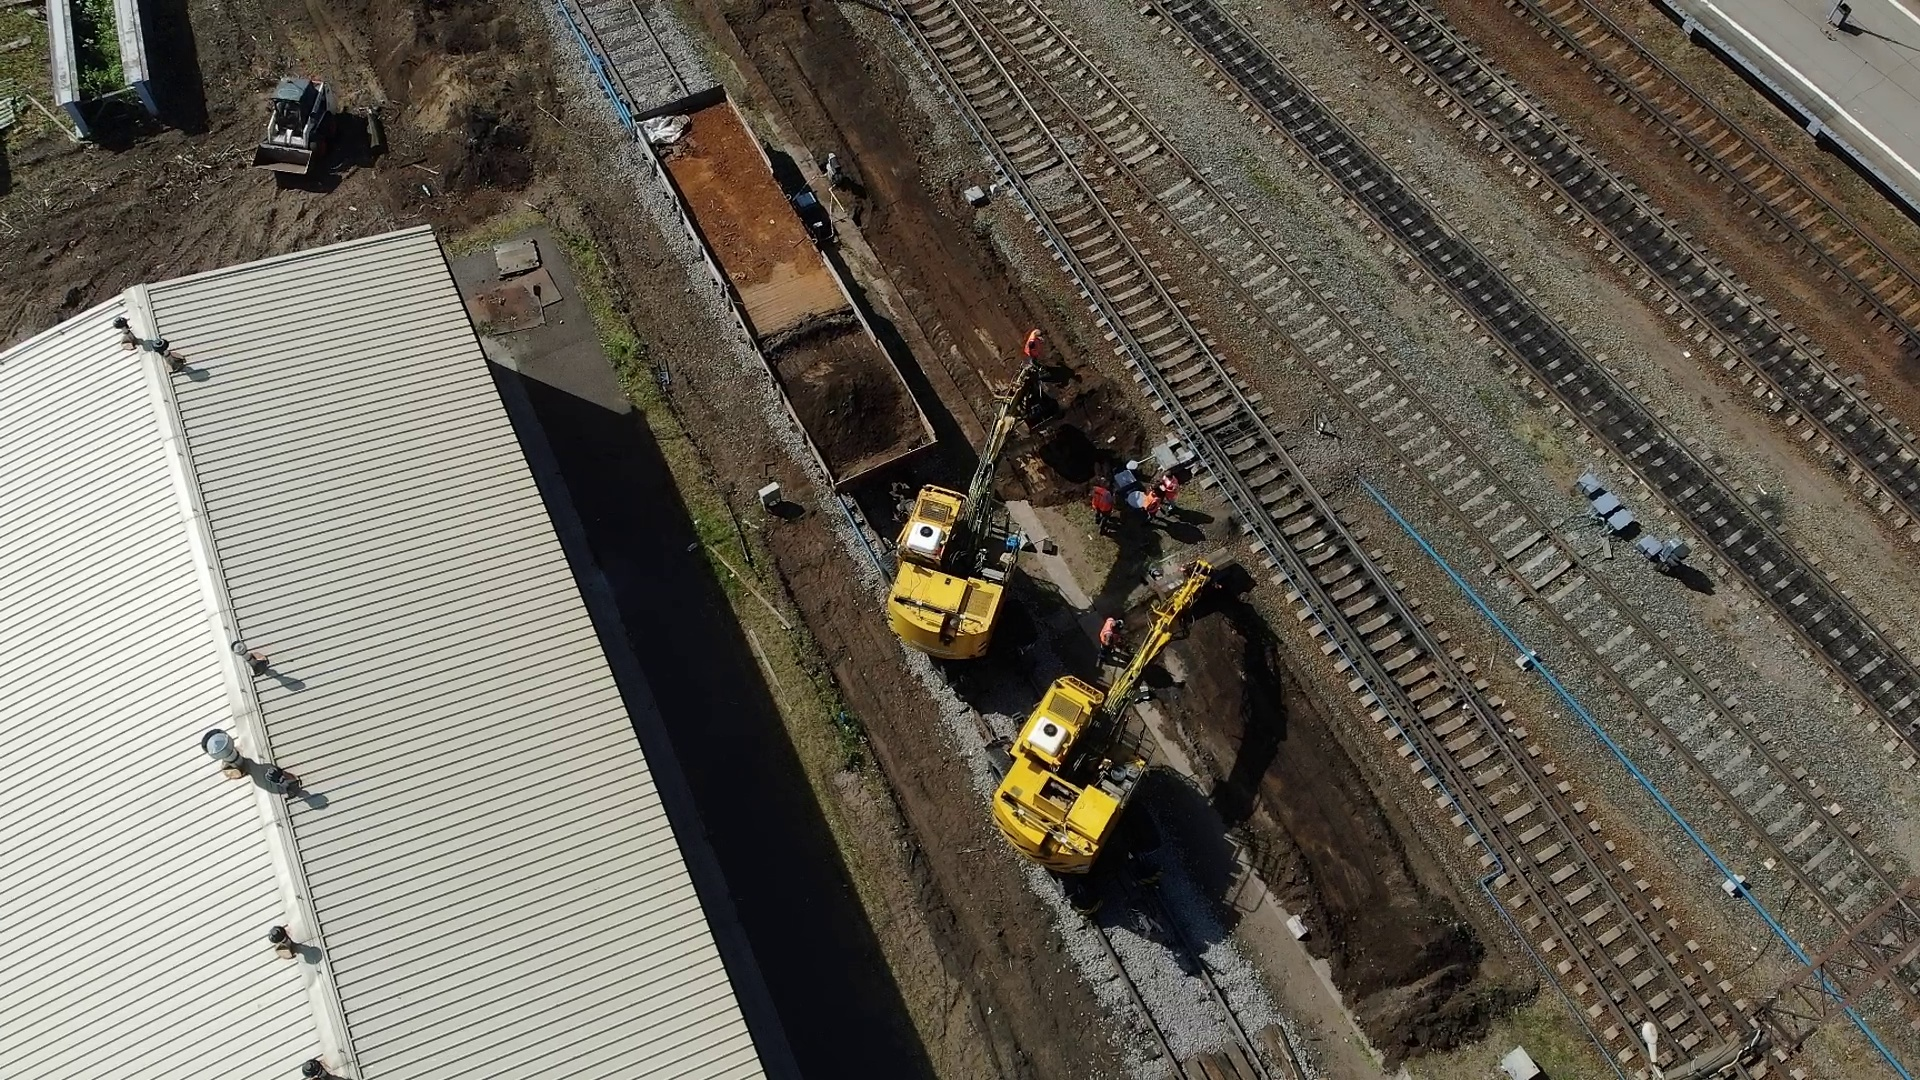kjtv: (994, 616, 1176, 869), (884, 407, 1015, 658)
